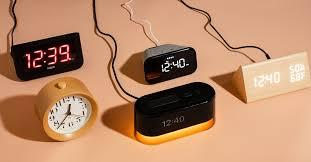alarm clock: (135, 81, 214, 144), (232, 53, 311, 104), (38, 78, 98, 142), (12, 32, 84, 80), (142, 43, 196, 82)
electric wire: (181, 1, 275, 57), (93, 0, 139, 99), (127, 0, 164, 45), (9, 0, 20, 56)
